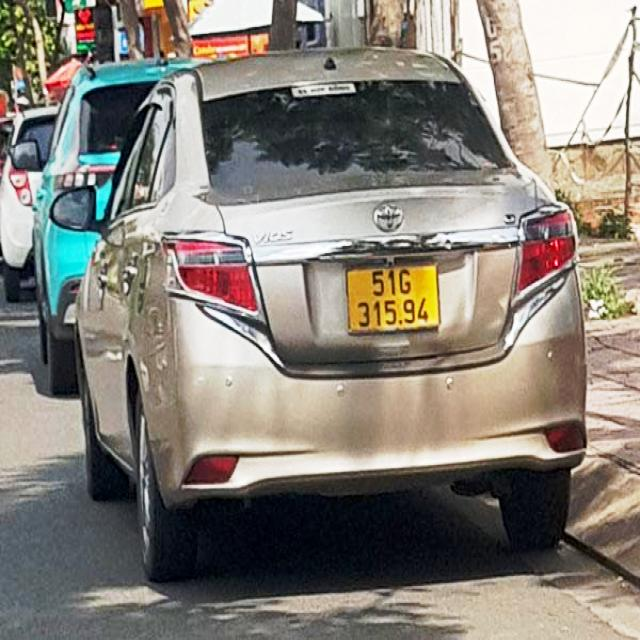license_plate: (348, 260, 443, 335)
